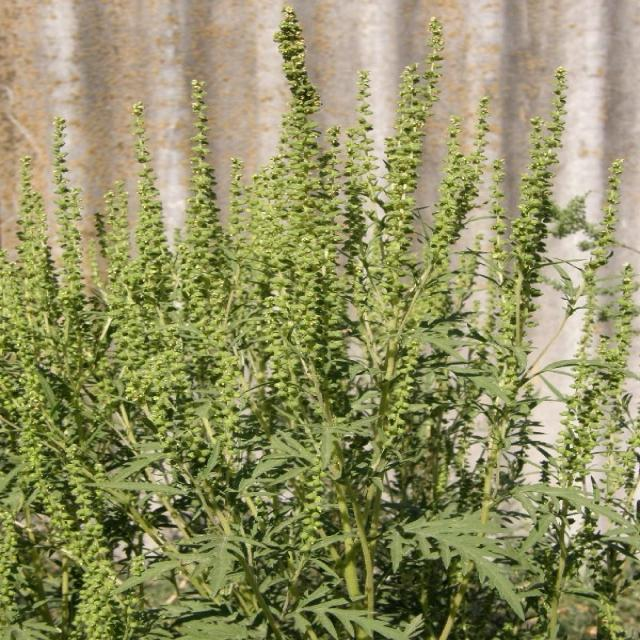ambrosia: (267, 16, 623, 392), (27, 103, 239, 423), (15, 444, 136, 640)
